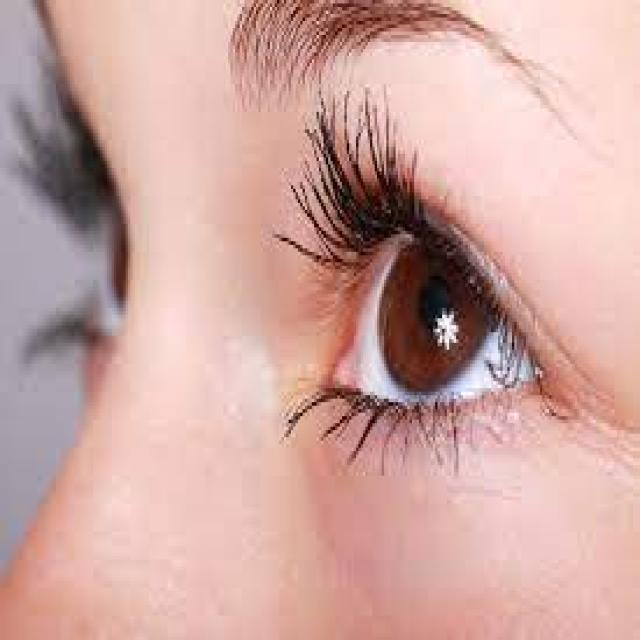Eyes-iris: (372, 221, 494, 408)
